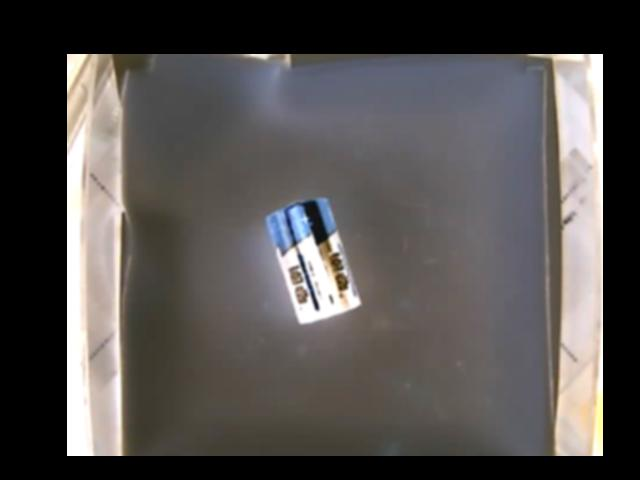Battery: (264, 199, 363, 327)
